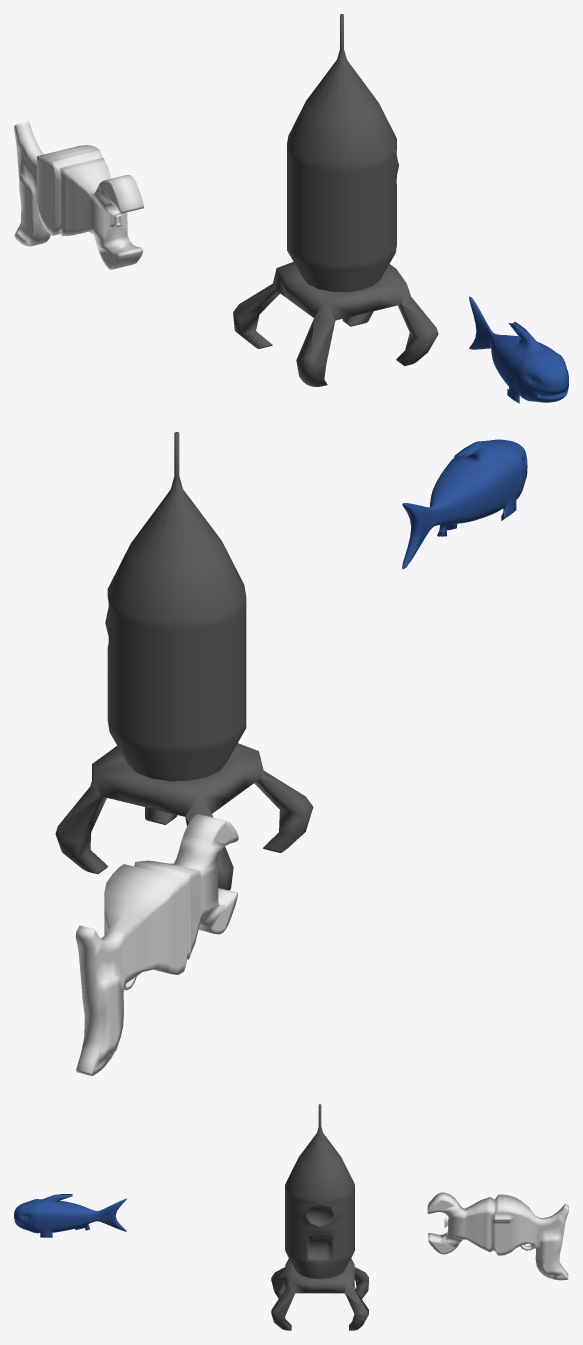
File: toys_low_02.fbx
3 views of the same model, one above another, from view 1: azimuth 30°, elevation 25°; view 2: azimuth 150°, elevation 25°; view 3: azimuth 270°, elevation 25° (orthographic). The views are drawn at different scales.
Parts seen in each view (by area): view 1: toy03_low, toy01_low, toy02_low; view 2: toy03_low, toy01_low, toy02_low; view 3: toy03_low, toy01_low, toy02_low.
Boxes of the visible parts, x1,y1,x2,y2 form: toy03_low: (233, 14, 438, 386); toy01_low: (14, 121, 143, 269); toy02_low: (469, 296, 568, 403); toy03_low: (55, 432, 313, 890); toy01_low: (75, 814, 238, 1075); toy02_low: (402, 439, 527, 568); toy03_low: (271, 1104, 368, 1330); toy01_low: (427, 1192, 568, 1280); toy02_low: (14, 1194, 126, 1237).
Bounding box in the file's own units: 1965 × 3029 × 7200.
